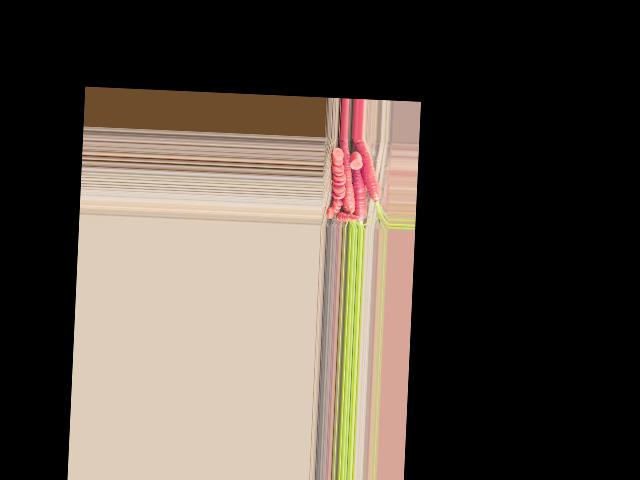carrot: (335, 137, 361, 218)
